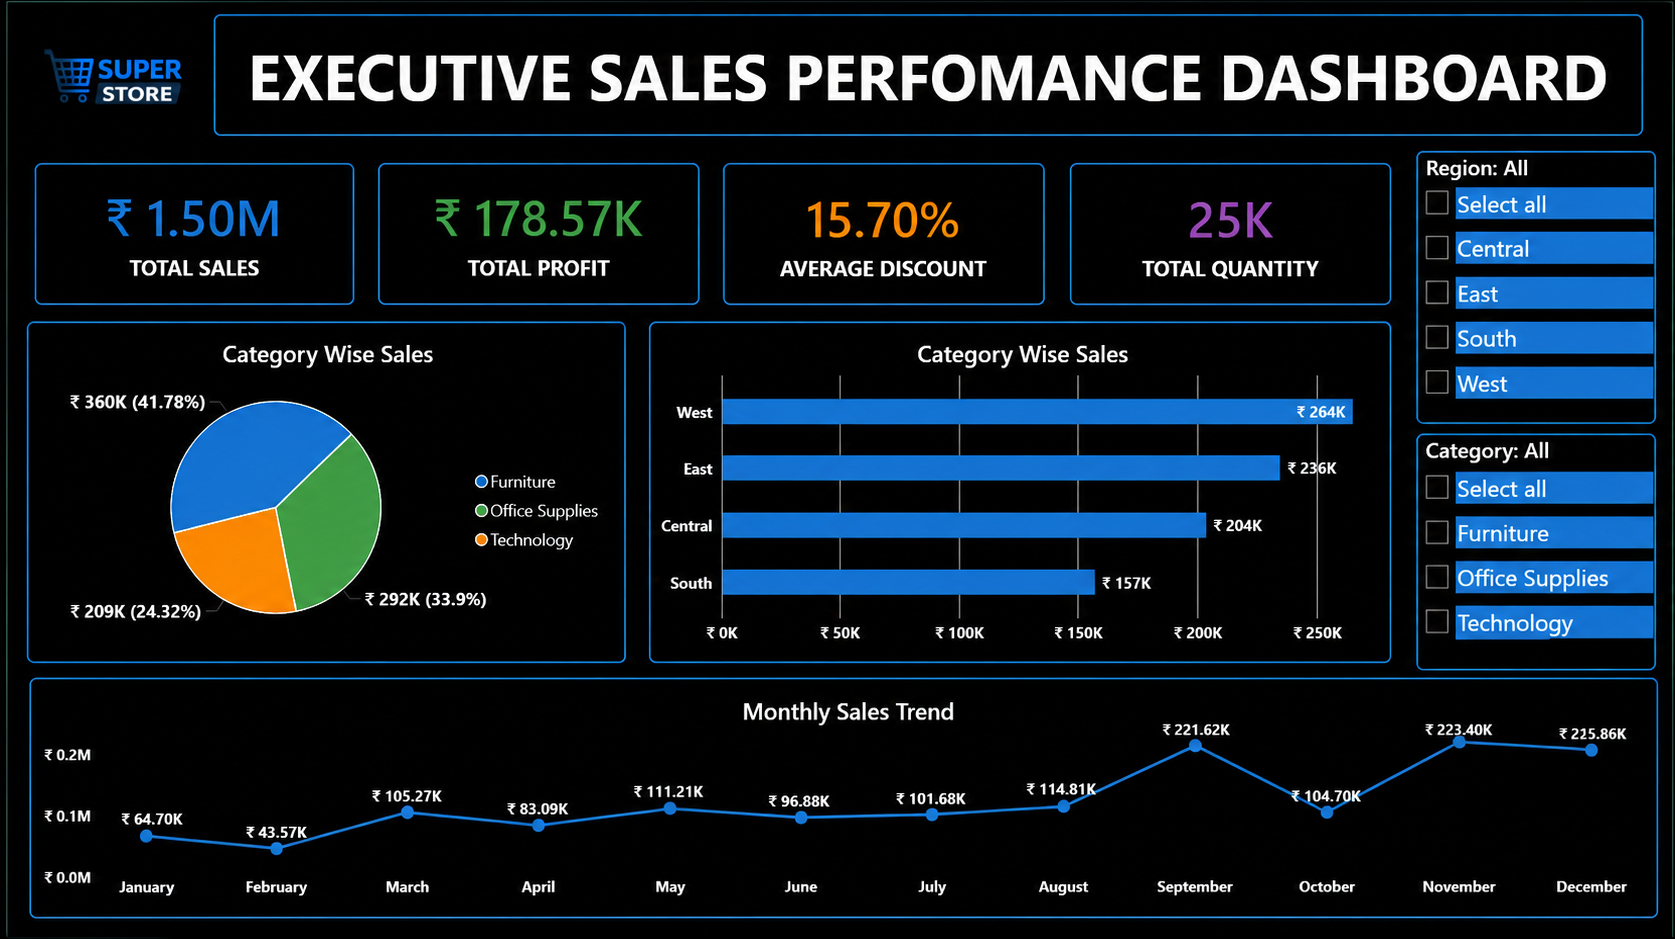

The page's visual inventory and layout, read from the dashboard file:
{"tool":"powerbi","page":{"name":"Page 1","canvas":[1920,1080],"ordinal":0},"visuals":[{"type":"cardVisual","fields":{"Data":["Sum(Superstore Dataset.Sales)"]},"box":[33.3,191.7,365,153.3],"z":0},{"type":"cardVisual","fields":{"Data":["Sum(Superstore Dataset.Profit)"]},"box":[431.7,191.7,365,153.3],"z":1000},{"type":"cardVisual","fields":{"Data":["Sum(Superstore Dataset.Quantity)"]},"box":[1228,192,368,156],"z":2000},{"type":"cardVisual","fields":{"Data":["Avg(Superstore Dataset.Discount)"]},"box":[830,191.7,365,155],"z":3000},{"type":"pieChart","title":"Category Wise Sales","fields":{"Category":["Superstore Dataset.Category"],"Y":["Sum(Superstore Dataset.Sales)"]},"box":[22,374,690,382],"z":4000},{"type":"slicer","fields":{"Values":["Superstore Dataset.Region"]},"box":[1626.7,173.3,273.3,315],"z":5000},{"type":"slicer","fields":{"Values":["Superstore Dataset.Category"]},"box":[1626.7,500,273.3,273.3],"z":6000},{"type":"lineChart","title":"Monthly Sales Trend","fields":{"Category":["Superstore Dataset.Order Date.Variation.Date Hierarchy.Month"],"Y":["Sum(Superstore Dataset.Sales)"]},"box":[31.7,785,1873.3,273.3],"z":7000},{"type":"textbox","box":[237.8,15.5,1647.7,141.5],"z":8000},{"type":"barChart","title":"Category Wise Sales","fields":{"Category":["Superstore Dataset.Region"],"Y":["Sum(Superstore Dataset.Sales)"]},"box":[742,374,854,382],"z":10000},{"type":"image","box":[0,6.7,268.9,185.6],"z":10001}]}

Visuals, with their boxes in screenshot pixels (x1, y1, x2, y2), scaled from the page's 1920x1080 canvas onto the 1675x939 screenshot:
cardVisual - Sum(Superstore Dataset.Sales): {"x1": 29, "y1": 167, "x2": 347, "y2": 300}
cardVisual - Sum(Superstore Dataset.Profit): {"x1": 377, "y1": 167, "x2": 695, "y2": 300}
cardVisual - Sum(Superstore Dataset.Quantity): {"x1": 1071, "y1": 167, "x2": 1392, "y2": 303}
cardVisual - Avg(Superstore Dataset.Discount): {"x1": 724, "y1": 167, "x2": 1043, "y2": 301}
"Category Wise Sales" pieChart: {"x1": 19, "y1": 325, "x2": 621, "y2": 657}
slicer - Superstore Dataset.Region: {"x1": 1419, "y1": 151, "x2": 1658, "y2": 425}
slicer - Superstore Dataset.Category: {"x1": 1419, "y1": 435, "x2": 1658, "y2": 672}
"Monthly Sales Trend" lineChart: {"x1": 28, "y1": 683, "x2": 1662, "y2": 920}
textbox: {"x1": 207, "y1": 13, "x2": 1645, "y2": 137}
"Category Wise Sales" barChart: {"x1": 647, "y1": 325, "x2": 1392, "y2": 657}
image: {"x1": 0, "y1": 6, "x2": 235, "y2": 167}
